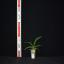leaf: (34, 36, 42, 48), (23, 42, 33, 48), (29, 37, 34, 47), (24, 46, 33, 50), (34, 45, 43, 49), (34, 48, 40, 53), (28, 49, 33, 50)
